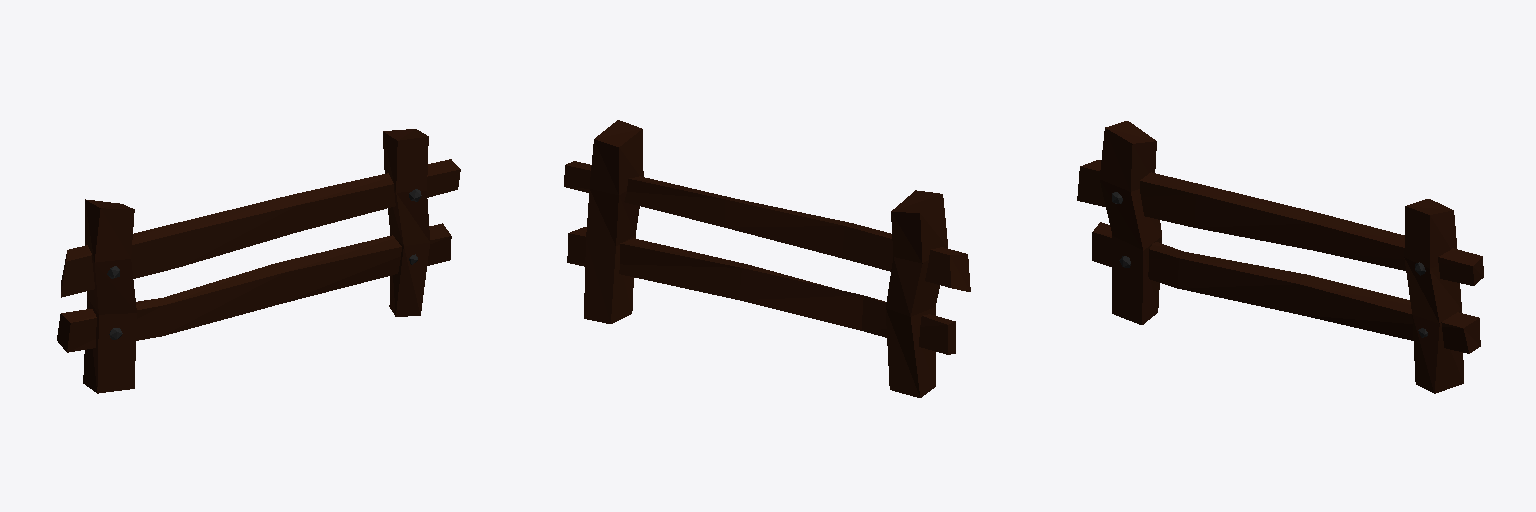
Rendered from fence.obj.
3 renders of one model, left to right at view 1: azimuth 30°, elevation 25°; view 2: azimuth 150°, elevation 25°; view 3: azimuth 330°, elevation 25°, orthographic.
Parts seen in each view (by area): view 1: Cube.002_Cube.003, Cube.003_Cube.004, Cube_Cube.001, Cube.001_Cube.002; view 2: Cube.003_Cube.004, Cube.002_Cube.003, Cube_Cube.001, Cube.001_Cube.002; view 3: Cube.002_Cube.003, Cube.003_Cube.004, Cube_Cube.001, Cube.001_Cube.002.
Boxes of the visible parts, x1=… form: Cube.002_Cube.003: x1=61, y1=159, x2=460, y2=297; Cube.003_Cube.004: x1=57, y1=223, x2=451, y2=352; Cube_Cube.001: x1=83, y1=199, x2=136, y2=393; Cube.001_Cube.002: x1=383, y1=129, x2=429, y2=316; Cube.003_Cube.004: x1=567, y1=227, x2=955, y2=354; Cube.002_Cube.003: x1=564, y1=161, x2=970, y2=291; Cube_Cube.001: x1=886, y1=190, x2=947, y2=397; Cube.001_Cube.002: x1=584, y1=120, x2=643, y2=323; Cube.002_Cube.003: x1=1077, y1=160, x2=1483, y2=285; Cube.003_Cube.004: x1=1092, y1=222, x2=1480, y2=353; Cube_Cube.001: x1=1100, y1=121, x2=1161, y2=324; Cube.001_Cube.002: x1=1404, y1=199, x2=1463, y2=393.
Size of the model in its own units: 1.34 by 0.6107 by 0.153.